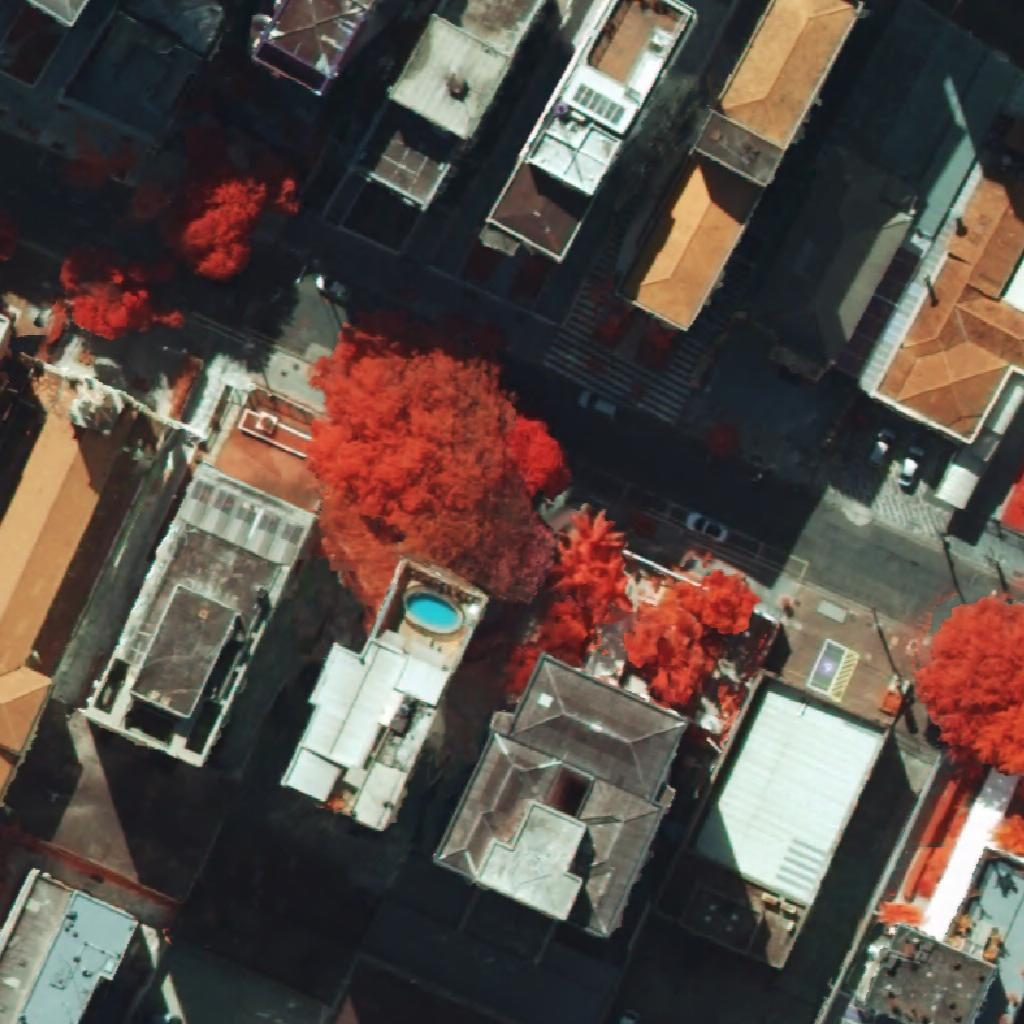pool: (407, 593, 457, 628)
